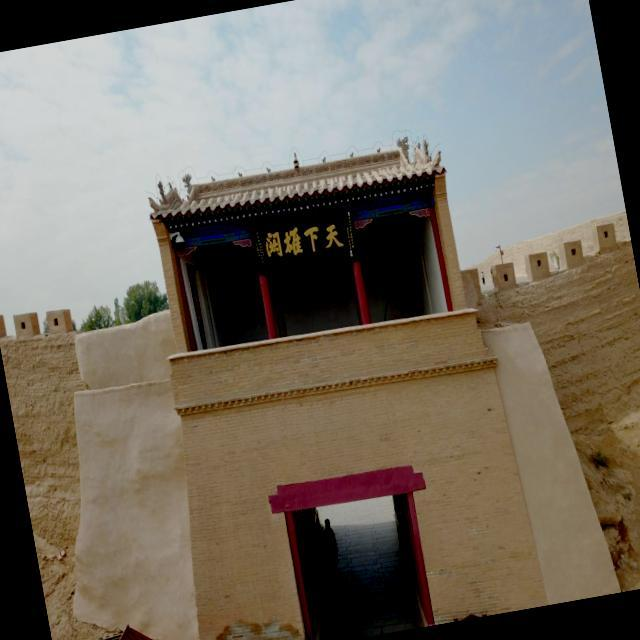person: (320, 517, 344, 584)
